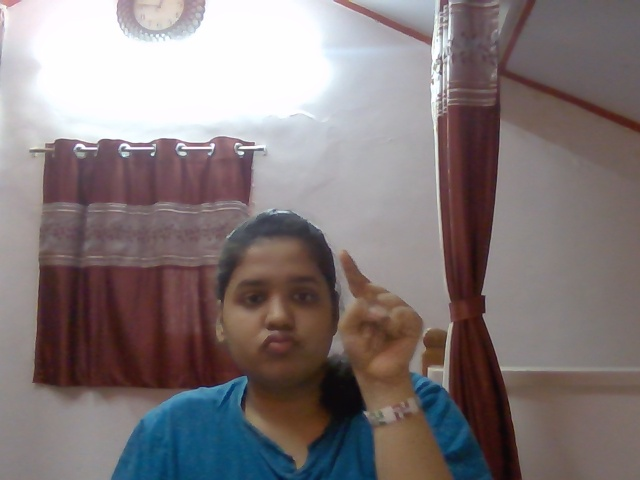z: (322, 241, 445, 388)
